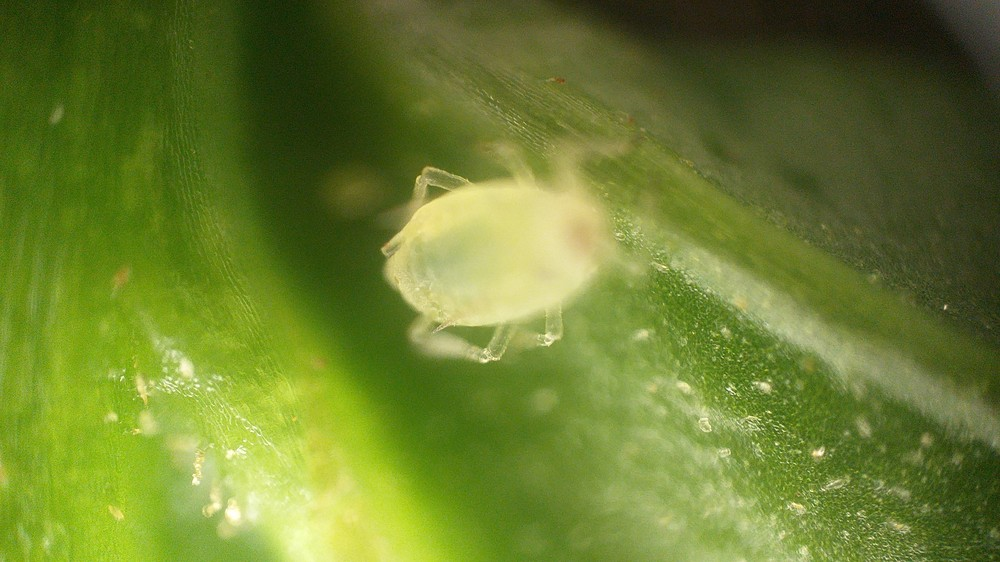Pulgon: (373, 125, 668, 370)
